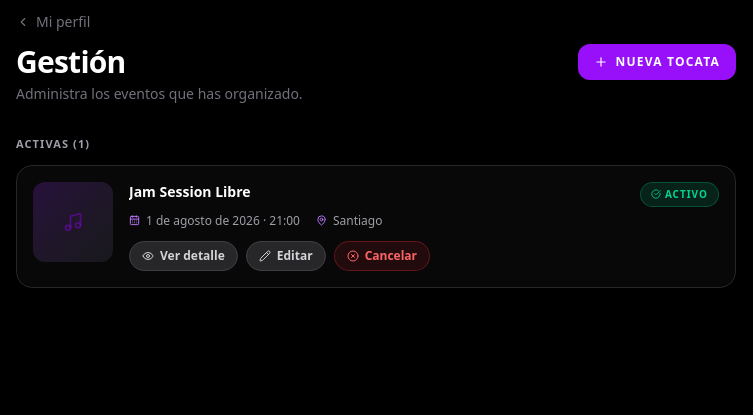
Test: GestionTocatas — recaudación y cancelación › indica que un evento de entrada liberada no vende tickets
Check: the text "Jam Session Libre" is shown, box [129,182,251,202]
Click the button "Ver detalle" at {"x": 183, "y": 256}, box [129,240,238,270]
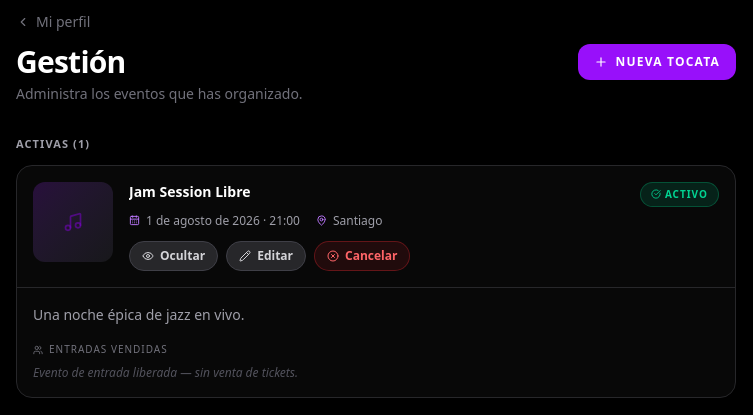
Check: the text "Evento de entrada liberada — sin venta de tickets." is shown, box [33,364,298,381]
